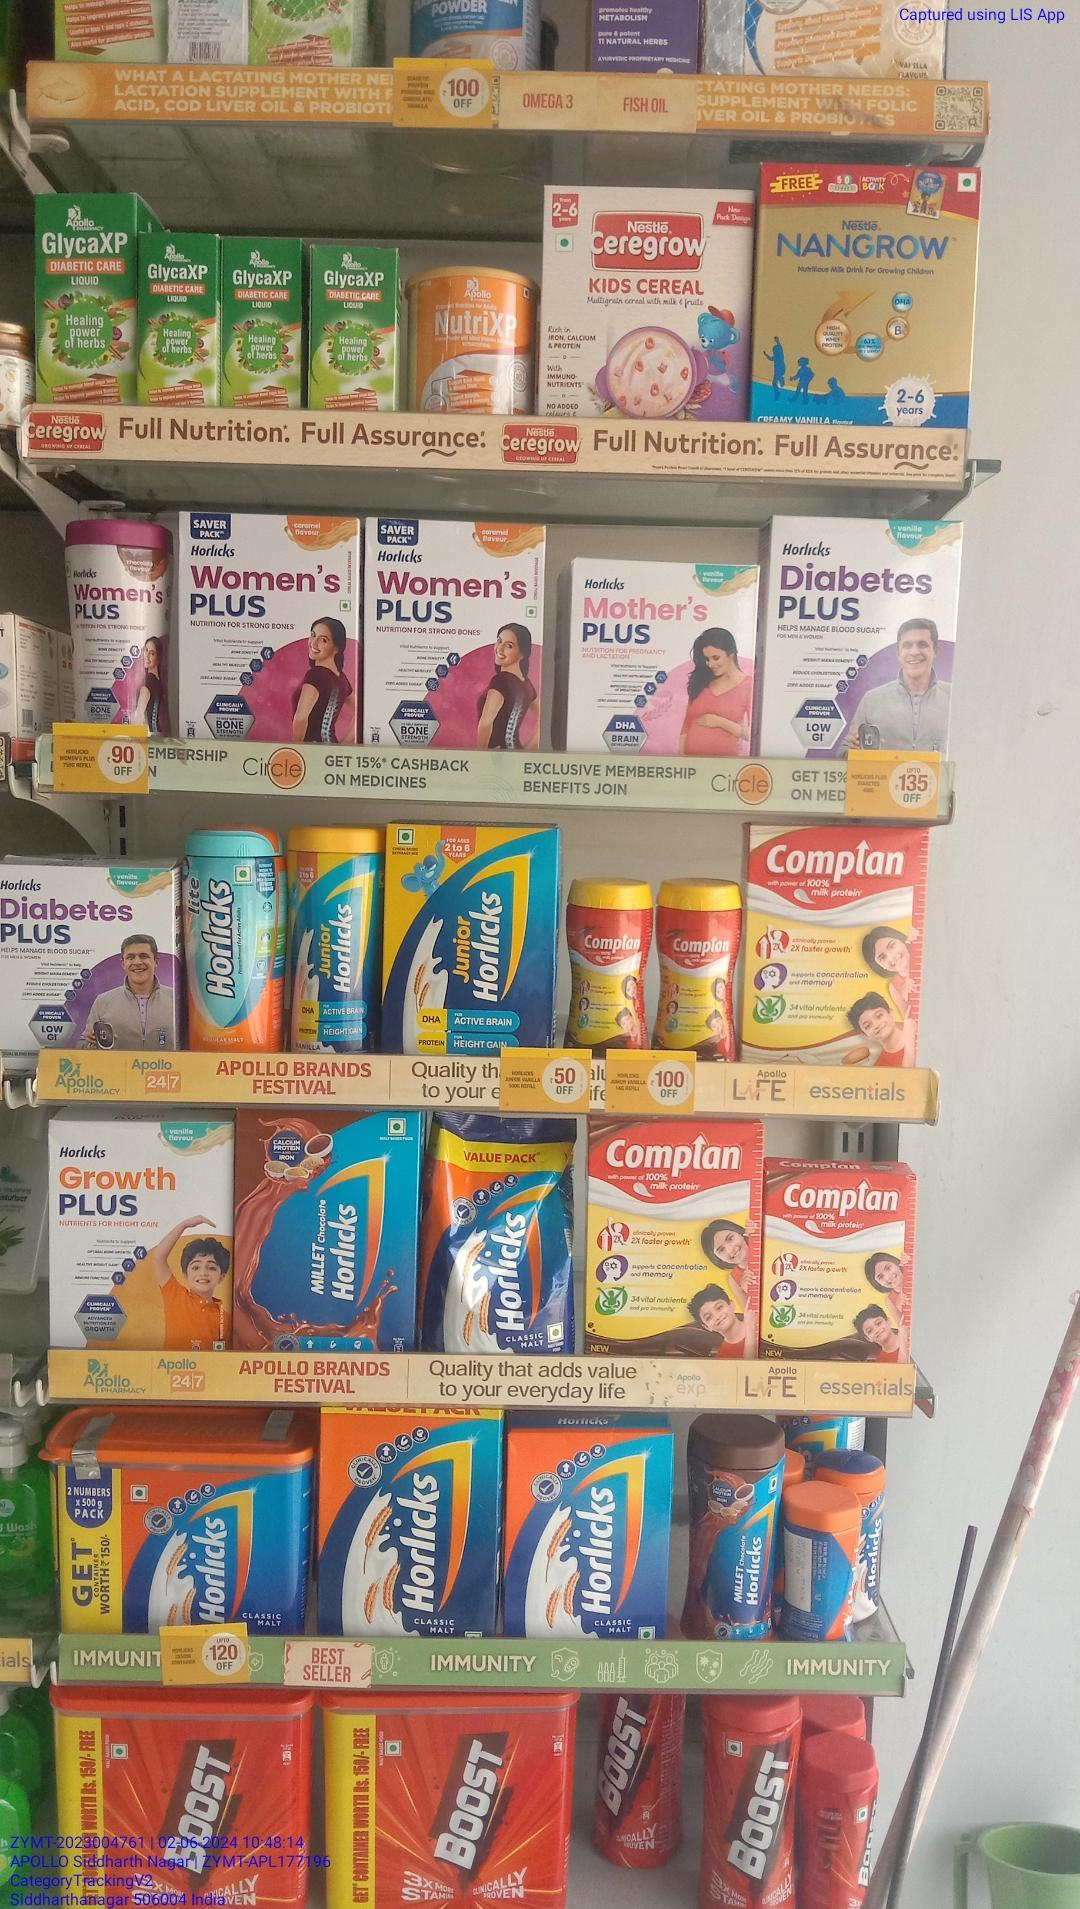COMPLAN_CHOCOLATE_200_GMS_JAR: (570, 875, 651, 1052), (659, 884, 737, 1062)
HORLICKS_JUNIOR_VANILLA_500_GM_JAR: (291, 823, 374, 1057)
HORLICKS_LITE_REGULAR_MALT_500_GM_JAR: (183, 822, 283, 1054)
HORLICK_CLASSIC_MALT_500_G_PACK: (509, 1429, 667, 1647)
HORLICK_MALT_1_KG_CONTAINER: (37, 1423, 309, 1636)
